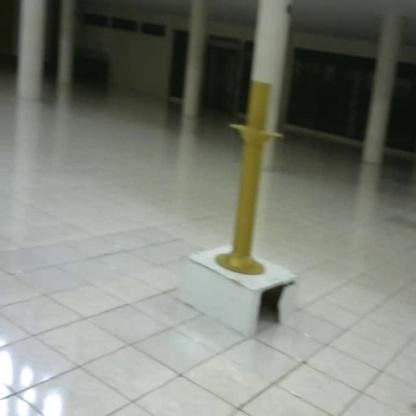pole: (211, 75, 289, 282)
